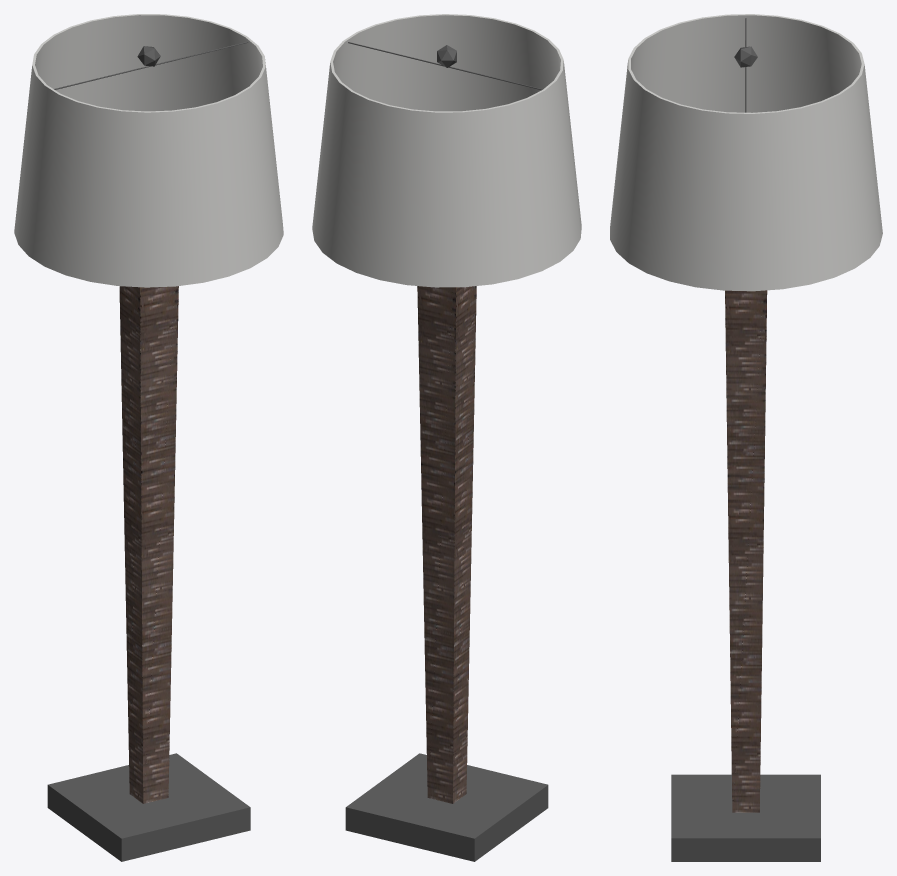
The model's file is lamp.gltf.
3 renders of one model, left to right at view 1: azimuth 30°, elevation 25°; view 2: azimuth 150°, elevation 25°; view 3: azimuth 270°, elevation 25°, orthographic.
Parts seen in each view (by area): view 1: Tube01_6c3eb5b1a21f496faa3d6d6db7fe41e4, Box03_69f85a051f214b0ba981c8fc33b20873, Box02_51368e6d30bc406f92c749204058ac38; view 2: Tube01_6c3eb5b1a21f496faa3d6d6db7fe41e4, Box03_69f85a051f214b0ba981c8fc33b20873, Box02_51368e6d30bc406f92c749204058ac38; view 3: Tube01_6c3eb5b1a21f496faa3d6d6db7fe41e4, Box03_69f85a051f214b0ba981c8fc33b20873, Box02_51368e6d30bc406f92c749204058ac38.
Boxes of the visible parts, <box> form: Tube01_6c3eb5b1a21f496faa3d6d6db7fe41e4: <box>14,14,283,287</box>; Box03_69f85a051f214b0ba981c8fc33b20873: <box>119,286,178,803</box>; Box02_51368e6d30bc406f92c749204058ac38: <box>47,753,250,861</box>; Tube01_6c3eb5b1a21f496faa3d6d6db7fe41e4: <box>312,14,581,287</box>; Box03_69f85a051f214b0ba981c8fc33b20873: <box>417,286,476,803</box>; Box02_51368e6d30bc406f92c749204058ac38: <box>345,753,548,861</box>; Tube01_6c3eb5b1a21f496faa3d6d6db7fe41e4: <box>610,14,882,291</box>; Box03_69f85a051f214b0ba981c8fc33b20873: <box>725,290,767,812</box>; Box02_51368e6d30bc406f92c749204058ac38: <box>671,774,820,861</box>.
Size of what is drawn, in the model's own units: 0.4643 by 1.47 by 0.4636.
3 materials, 1 textured.
